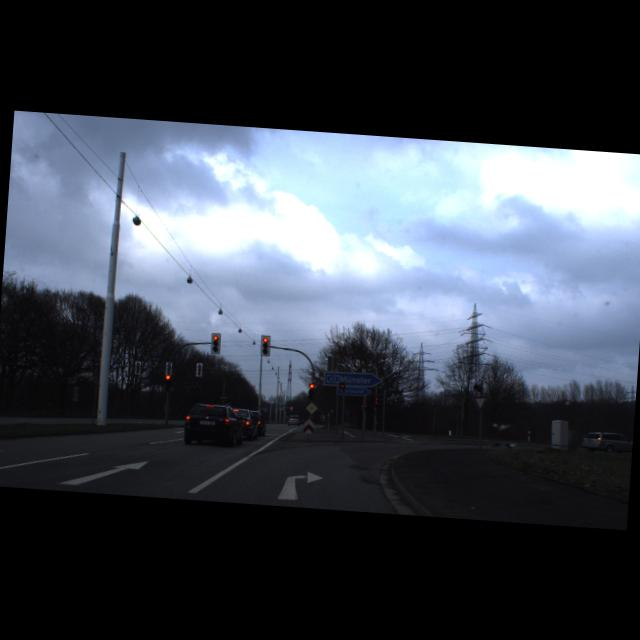other: (471, 395, 488, 412), (304, 402, 318, 416)
